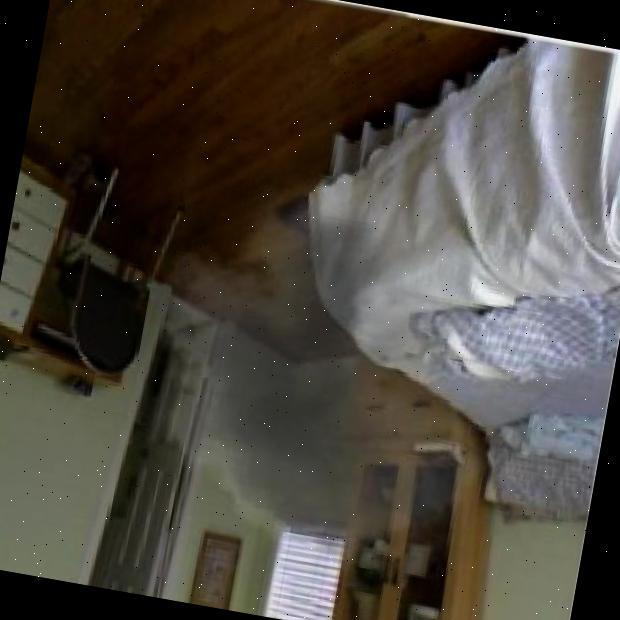smoke: (147, 179, 540, 566)
